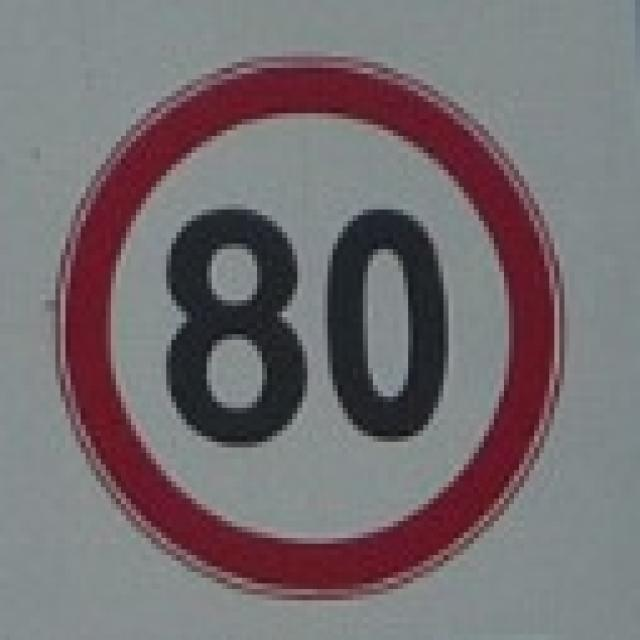Speed Limit -80-: (157, 204, 450, 453)
